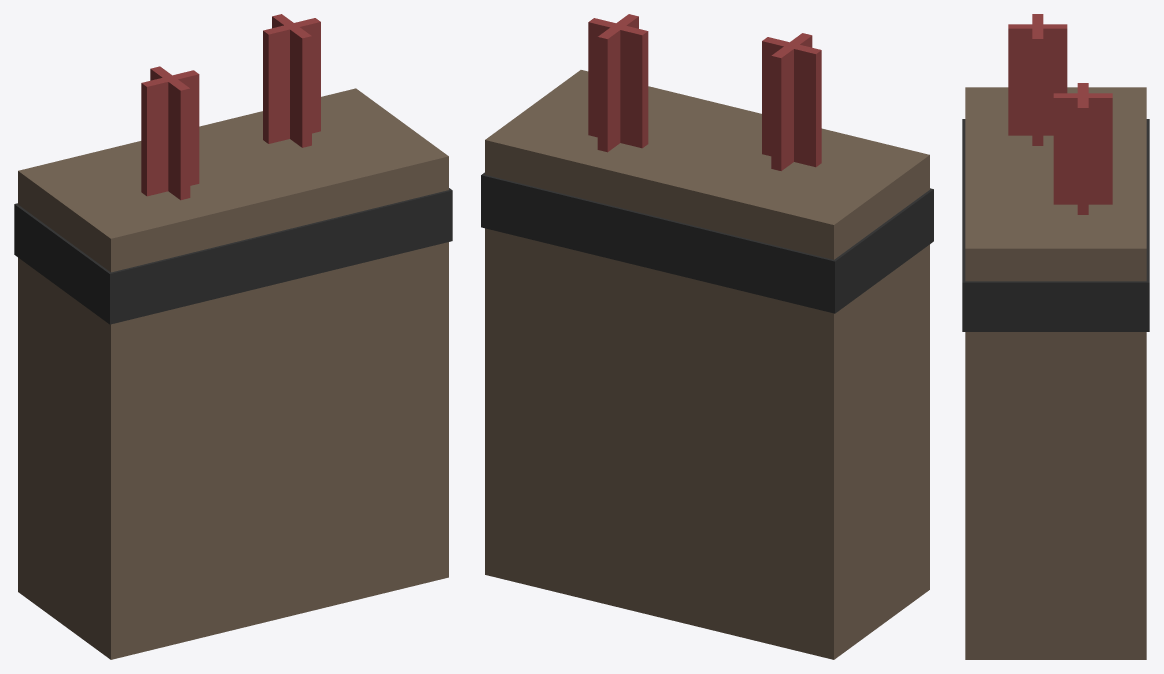
The model's file is ce_ammo2_bolt_steel_b.obj.
The picture shows the model from 3 angles, left to right: view 1: azimuth 30°, elevation 25°; view 2: azimuth 150°, elevation 25°; view 3: azimuth 270°, elevation 25°; orthographic projection. The views are drawn at different scales.
Visible parts, largest first — view 1: ce_ammo2_bolt_steel_b_0, ce_ammo2_bolt_steel_b_1, ce_ammo2_bolt_steel_b_2, ce_ammo2_bolt_steel_b_4, ce_ammo2_bolt_steel_b_3, ce_ammo2_bolt_steel_b_5; view 2: ce_ammo2_bolt_steel_b_0, ce_ammo2_bolt_steel_b_1, ce_ammo2_bolt_steel_b_4, ce_ammo2_bolt_steel_b_2, ce_ammo2_bolt_steel_b_5, ce_ammo2_bolt_steel_b_3; view 3: ce_ammo2_bolt_steel_b_0, ce_ammo2_bolt_steel_b_1, ce_ammo2_bolt_steel_b_5, ce_ammo2_bolt_steel_b_3, ce_ammo2_bolt_steel_b_2, ce_ammo2_bolt_steel_b_4.
Boxes of the visible parts, left/top/right/bottom form: ce_ammo2_bolt_steel_b_0: left=18, top=88, right=448, bottom=659; ce_ammo2_bolt_steel_b_1: left=14, top=188, right=452, bottom=324; ce_ammo2_bolt_steel_b_2: left=141, top=70, right=199, bottom=196; ce_ammo2_bolt_steel_b_4: left=263, top=18, right=320, bottom=143; ce_ammo2_bolt_steel_b_3: left=150, top=66, right=190, bottom=200; ce_ammo2_bolt_steel_b_5: left=272, top=14, right=311, bottom=147; ce_ammo2_bolt_steel_b_0: left=485, top=70, right=929, bottom=659; ce_ammo2_bolt_steel_b_1: left=481, top=172, right=933, bottom=313; ce_ammo2_bolt_steel_b_4: left=588, top=18, right=648, bottom=148; ce_ammo2_bolt_steel_b_2: left=762, top=37, right=821, bottom=167; ce_ammo2_bolt_steel_b_5: left=597, top=14, right=638, bottom=152; ce_ammo2_bolt_steel_b_3: left=771, top=33, right=812, bottom=170; ce_ammo2_bolt_steel_b_0: left=965, top=87, right=1146, bottom=659; ce_ammo2_bolt_steel_b_1: left=962, top=119, right=1149, bottom=331; ce_ammo2_bolt_steel_b_5: left=1053, top=93, right=1112, bottom=204; ce_ammo2_bolt_steel_b_3: left=1008, top=24, right=1067, bottom=135; ce_ammo2_bolt_steel_b_2: left=1032, top=14, right=1043, bottom=145; ce_ammo2_bolt_steel_b_4: left=1077, top=83, right=1088, bottom=214.
Bounding box in the file's own units: 0.426 × 0.63 × 0.206.
